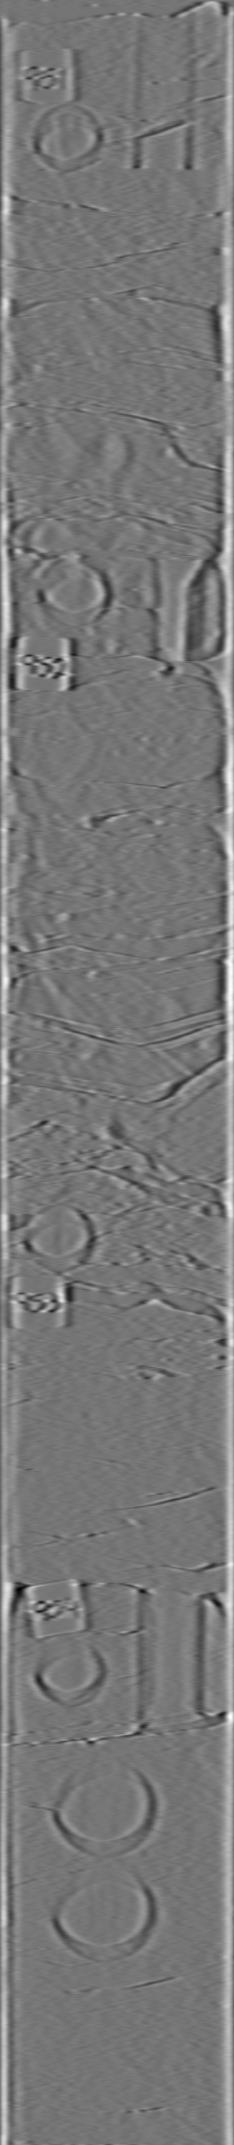hplug: (29, 546, 118, 629), (22, 98, 111, 178), (26, 1633, 109, 1715), (21, 1200, 97, 1275)
scal: (47, 1758, 160, 1858), (49, 1869, 161, 1964)
vplug: (122, 1579, 215, 1737), (125, 15, 200, 178), (142, 540, 207, 679)
